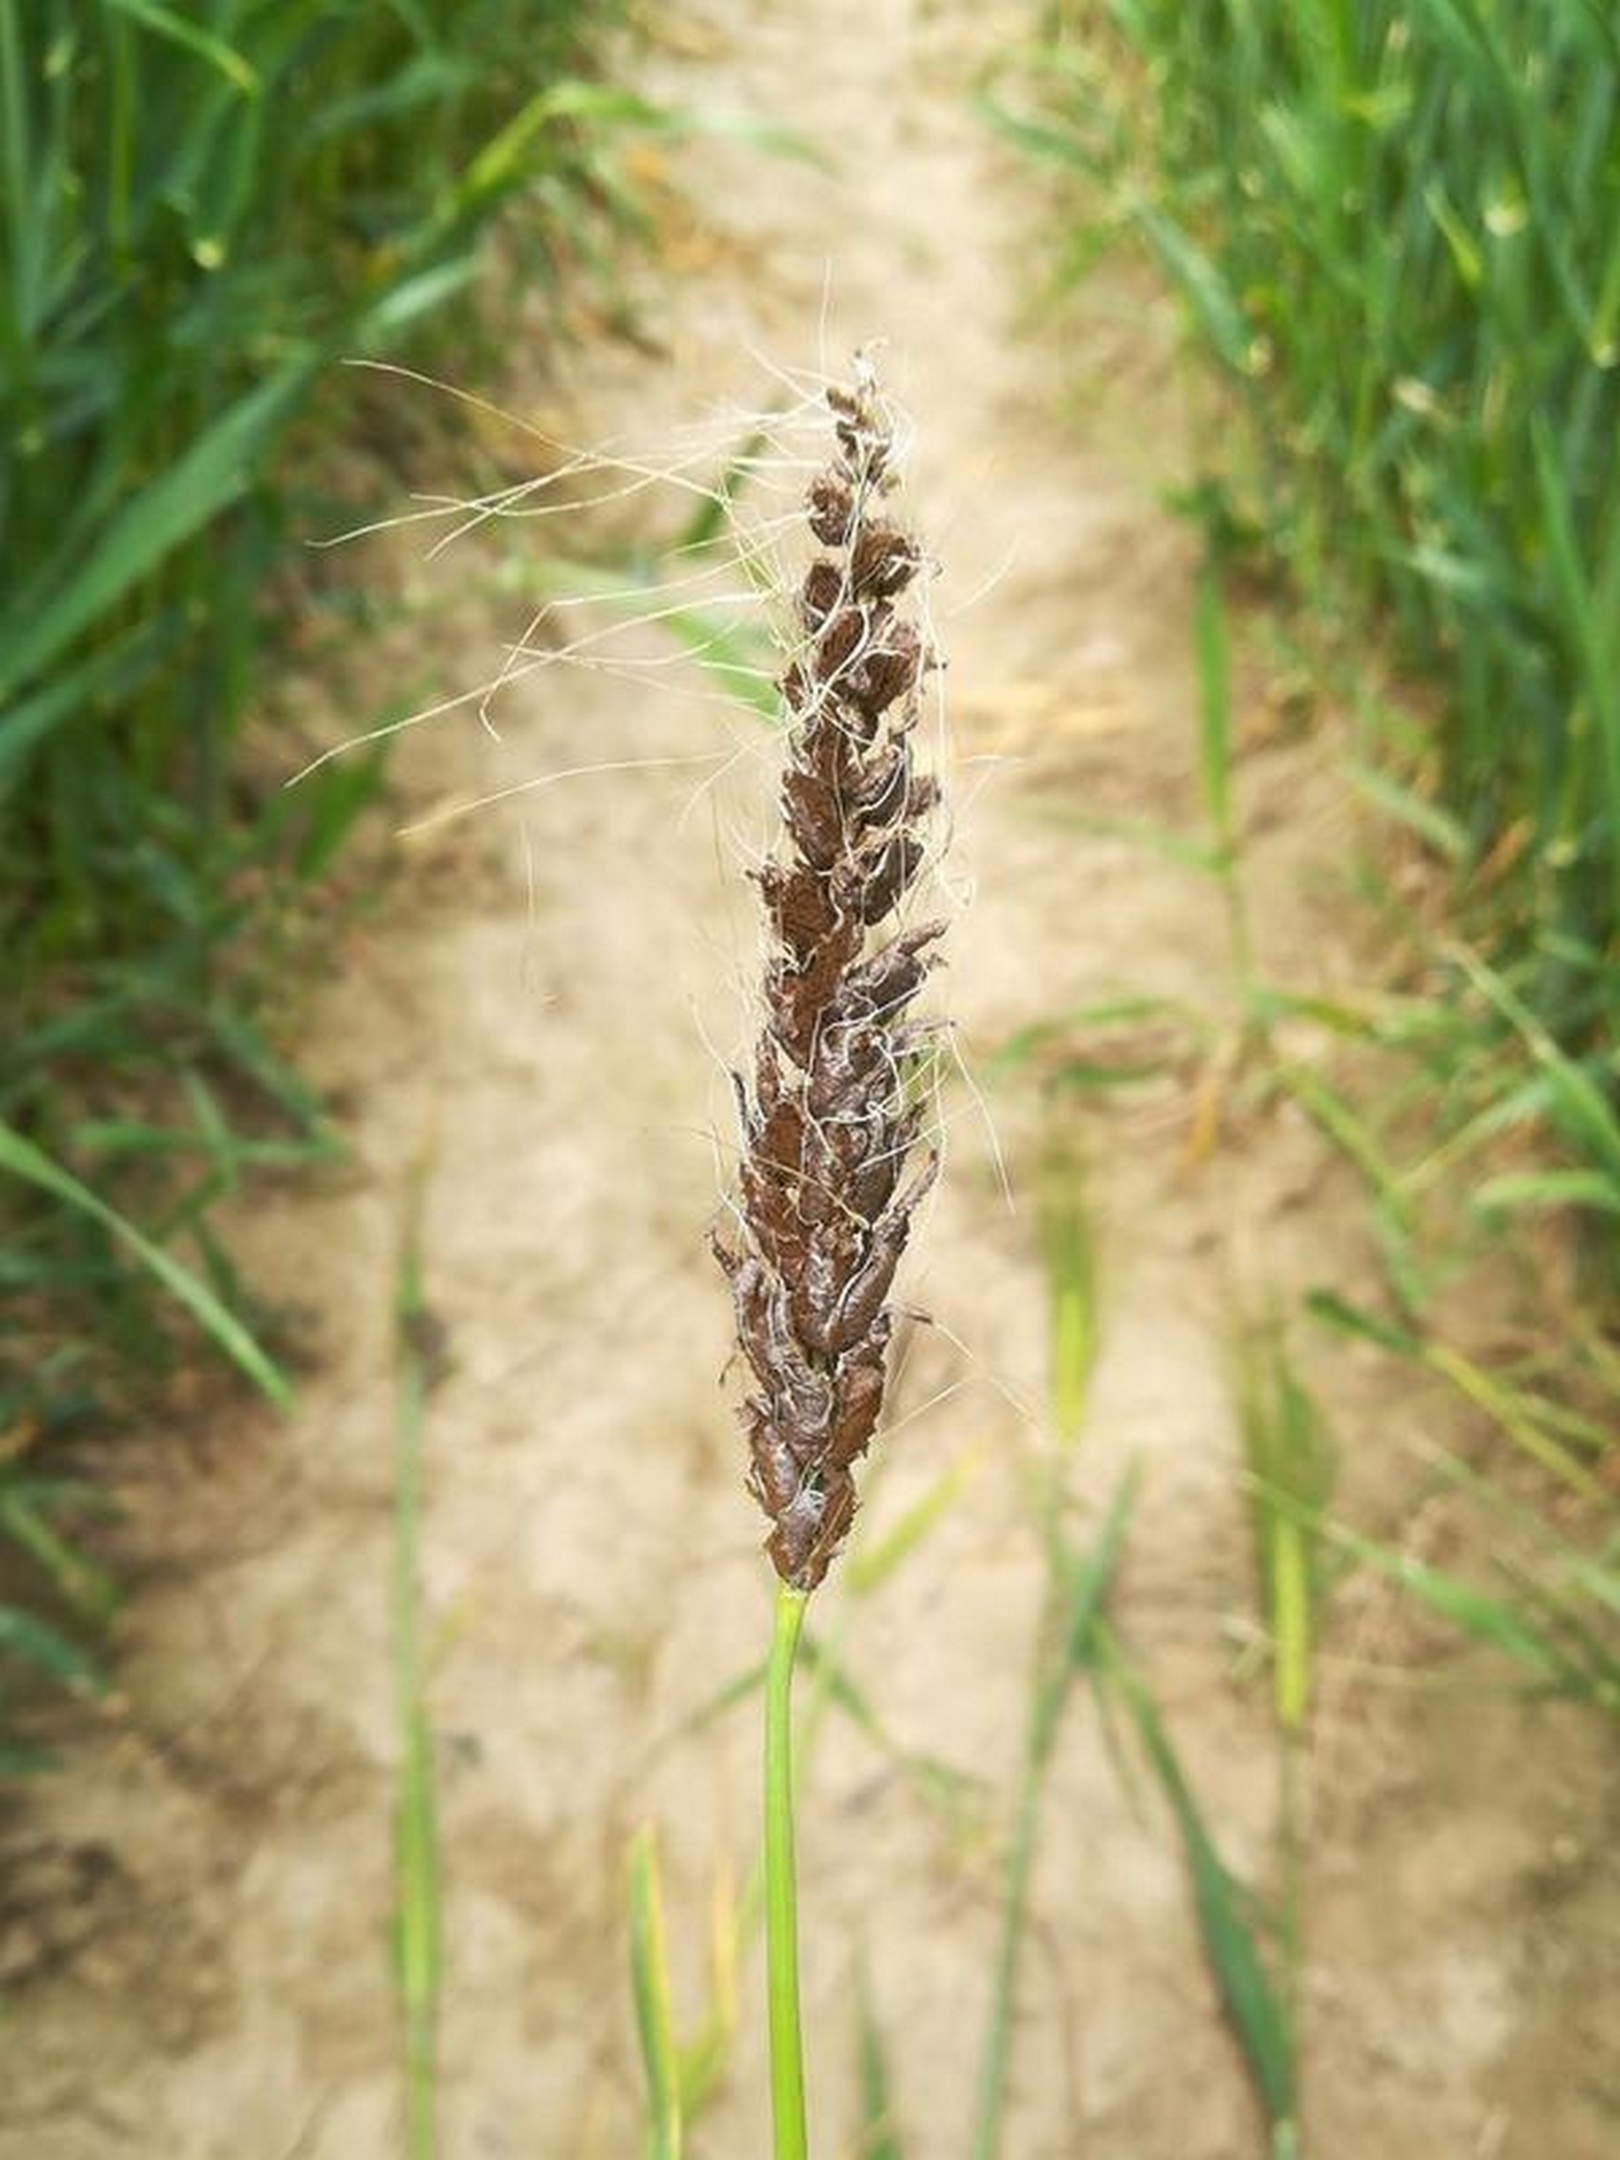Wheat Loose Smut: (659, 354, 984, 1582)
